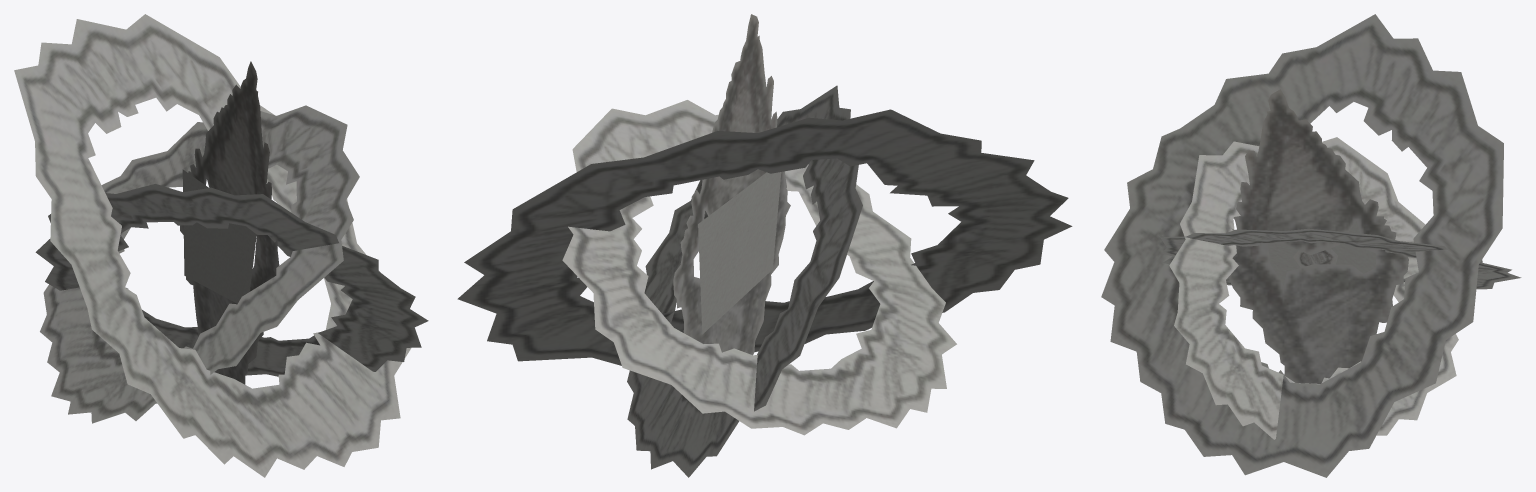
File: idiots-vs-ai-overlords-bake.glb
The picture shows the model from 3 angles, left to right: view 1: azimuth 30°, elevation 25°; view 2: azimuth 150°, elevation 25°; view 3: azimuth 270°, elevation 25°; orthographic projection. The views are drawn at different scales.
Parts seen in each view (by area): view 1: IMG_0680.012, IMG_0680.017, IMG_0680.009, IMG_0680.007; view 2: IMG_0680.012, IMG_0680.017, IMG_0680.009, IMG_0680.007; view 3: IMG_0680.012, IMG_0680.007, IMG_0680.009, IMG_0680.017.
Part boxes in pixels (<box>): IMG_0680.012: <box>14,14,411,477</box>; IMG_0680.017: <box>40,105,359,423</box>; IMG_0680.009: <box>35,184,428,376</box>; IMG_0680.007: <box>180,61,279,384</box>; IMG_0680.012: <box>457,109,1072,365</box>; IMG_0680.017: <box>562,100,956,435</box>; IMG_0680.009: <box>627,85,862,477</box>; IMG_0680.007: <box>673,14,790,355</box>; IMG_0680.012: <box>1101,14,1503,477</box>; IMG_0680.007: <box>1229,89,1408,383</box>; IMG_0680.009: <box>1169,137,1458,439</box>; IMG_0680.017: <box>1160,228,1521,289</box>.
Bounding box in the file's own units: 8.76 × 7.46 × 8.5.
1 material, 1 textured.
